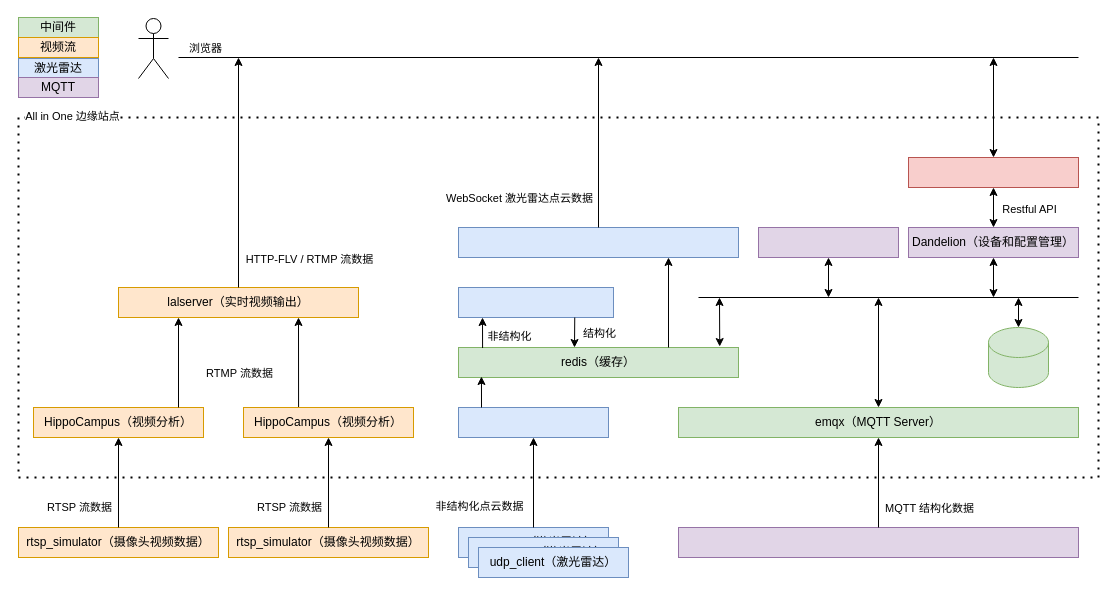
Some shapes in this 1117 by 595 pixel diagram are drawn without their labels. The centre of each missing label's shape, as x and y in pixels:
"Admin" belongs at point (153, 48).
"celery_worker（解析）" belongs at point (536, 302).
"Cerebrum（数据处理）" belongs at point (828, 242).
"lidar_websocket" belongs at point (598, 242).
"mariadb" belongs at point (1018, 357).
"omega（Dashboard）" belongs at point (993, 172).
"rse-simulator（RSU 和其它路侧设备）" belongs at point (878, 542).
"udp_server" belongs at point (533, 422).
